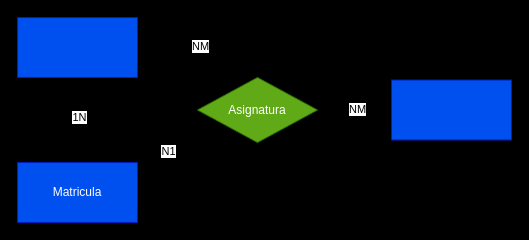
Some shapes in this 529 by 240 pixel diagram are drawn without their labels. The centre of each missing label's shape, as x and y in pixels:
"Alumno" goes at (77,47).
"Profesor" goes at (451,109).
